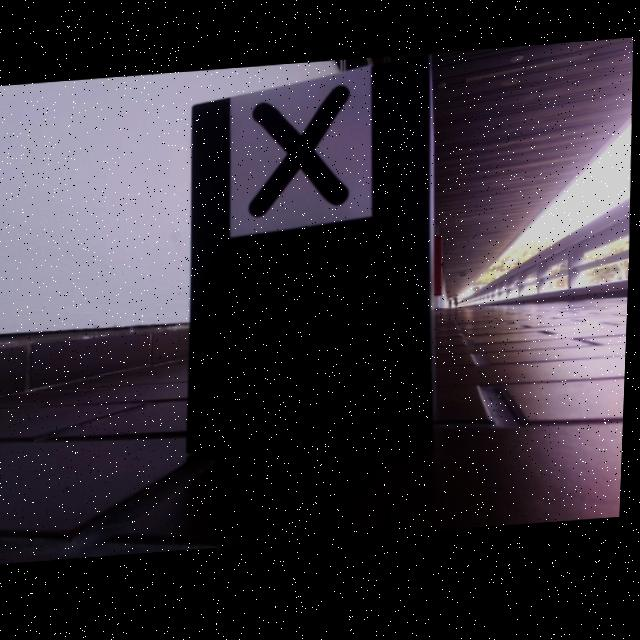X: (250, 88, 351, 221)
